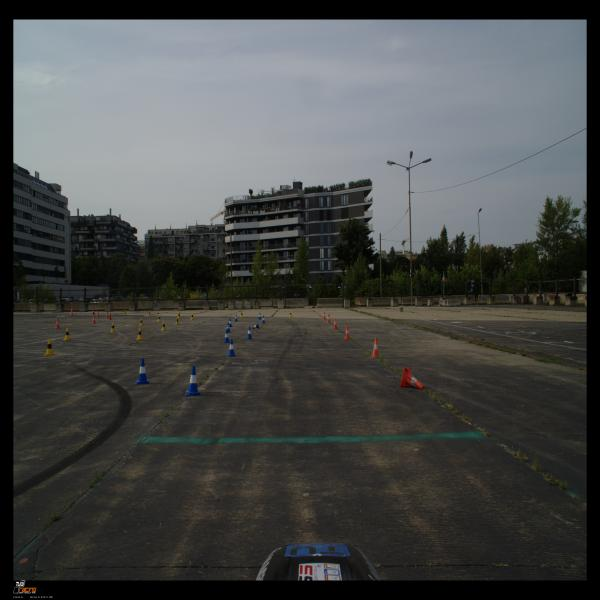blue_cone: (185, 366, 201, 396), (134, 358, 151, 384), (226, 339, 237, 357), (245, 327, 253, 339), (223, 330, 230, 343), (252, 322, 260, 329), (227, 322, 231, 332), (229, 318, 233, 327), (234, 314, 238, 322), (258, 313, 262, 319), (262, 316, 265, 323)
large_orange_cone: (69, 308, 74, 316), (92, 307, 95, 314)
orange_cone: (400, 367, 424, 389), (371, 338, 379, 357), (344, 326, 351, 340), (54, 318, 61, 328), (333, 318, 338, 329), (92, 315, 96, 324), (322, 312, 326, 319), (108, 313, 112, 320), (327, 314, 330, 323), (96, 311, 100, 317), (106, 312, 109, 318)
yellow_cone: (43, 339, 56, 356), (63, 328, 71, 340), (136, 328, 144, 340), (110, 322, 117, 332), (161, 321, 167, 331), (138, 318, 144, 326), (175, 317, 180, 325), (157, 315, 162, 322), (190, 313, 195, 320), (240, 311, 244, 317), (289, 311, 292, 317), (148, 311, 151, 316), (178, 312, 180, 318), (124, 310, 126, 315)
